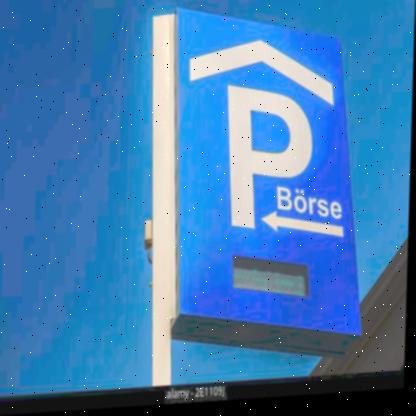Parking: (198, 74, 326, 246)
